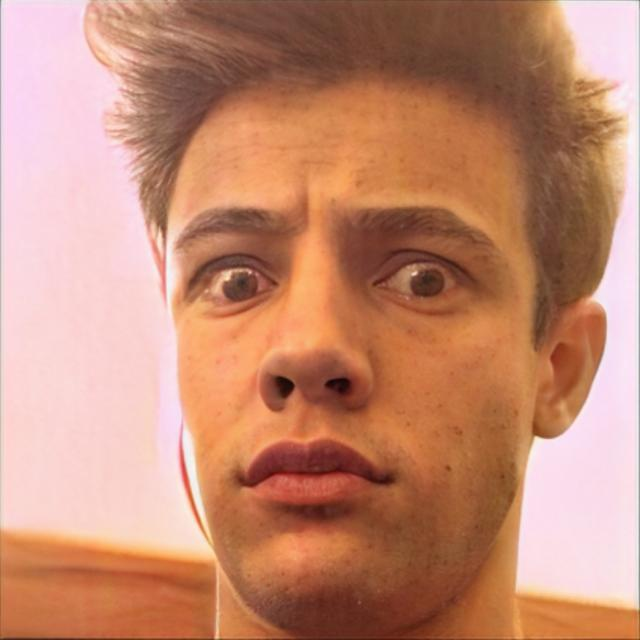fear: (162, 53, 543, 640)
